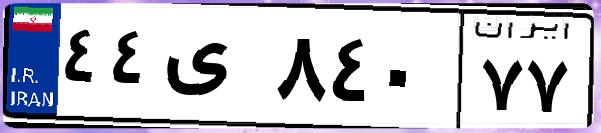0: (385, 28, 445, 110)
4: (330, 28, 385, 110), (57, 26, 110, 100), (110, 28, 158, 98)
7: (475, 38, 525, 113), (525, 38, 570, 115)
8: (270, 28, 330, 110)
ی: (158, 20, 270, 120)
